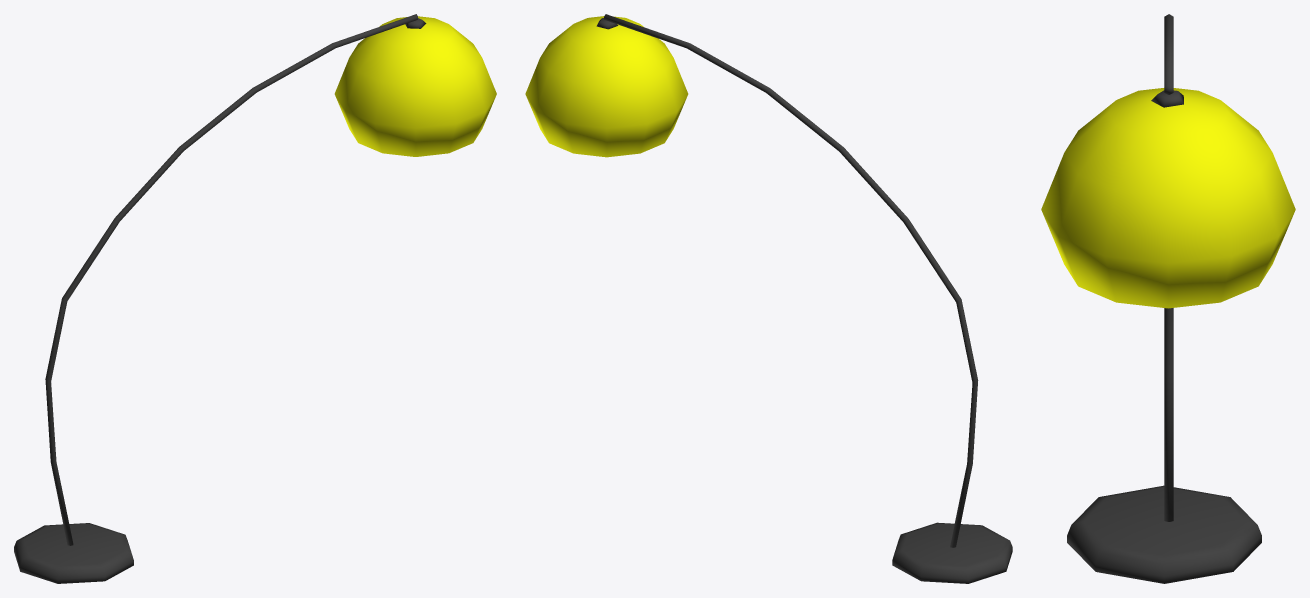
The model's file is Arc_Lamp_G.FBX.
3 views of the same model, side by side, from view 1: azimuth 30°, elevation 25°; view 2: azimuth 150°, elevation 25°; view 3: azimuth 270°, elevation 25° (orthographic). The views are drawn at different scales.
Parts seen in each view (by area): view 1: Arc_Lamp; view 2: Arc_Lamp; view 3: Arc_Lamp.
Boxes of the visible parts, x1,y1,x2,y2 form: Arc_Lamp: [14, 14, 496, 583]; Arc_Lamp: [525, 14, 1012, 583]; Arc_Lamp: [1041, 14, 1295, 583].
Bounding box in the file's own units: 316 × 297 × 95.22.
